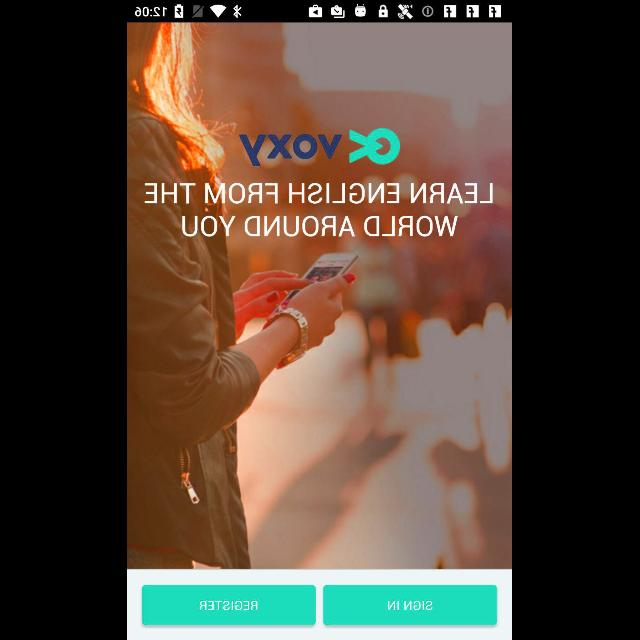image: (128, 23, 512, 569), (240, 128, 402, 166)
text: (144, 182, 493, 238)
textbutton: (143, 585, 317, 625), (324, 585, 498, 625)
uppertaskbar: (128, 1, 512, 23)
